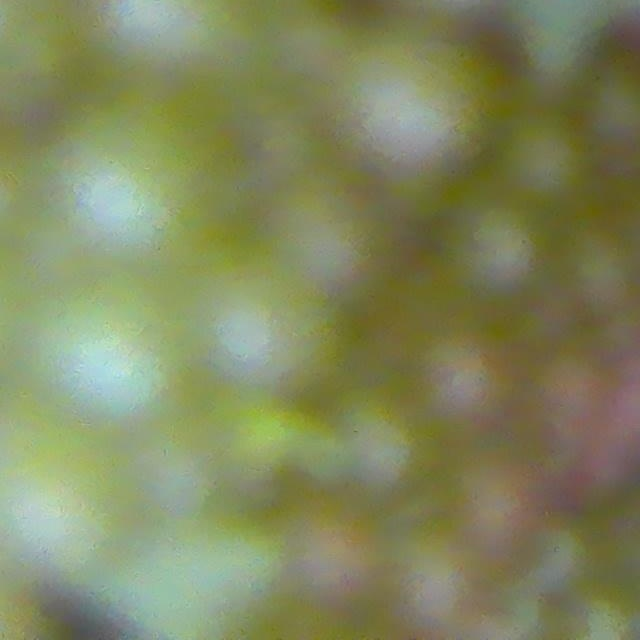SeaGrape: (59, 95, 254, 276), (54, 290, 212, 425), (352, 39, 487, 192), (0, 428, 147, 565), (179, 504, 296, 620), (209, 284, 328, 371), (453, 199, 552, 299), (497, 110, 596, 209), (216, 389, 315, 482), (585, 63, 640, 150)
